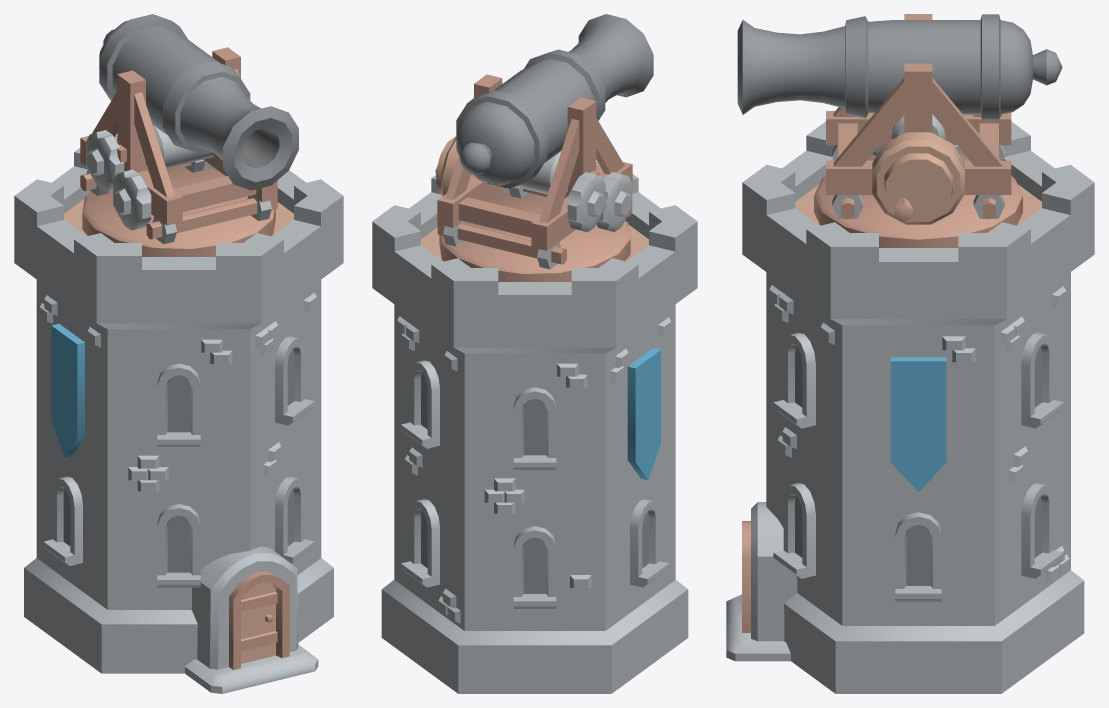
The model's file is tower_cannon_part.glb.
3 renders of one model, left to right at view 1: azimuth 30°, elevation 25°; view 2: azimuth 150°, elevation 25°; view 3: azimuth 270°, elevation 25°, orthographic. The views are drawn at different scales.
Visible parts, largest first — view 1: X_building_tower_cannon_blue, X_cannon_turret_blue, X_cannon_blue; view 2: X_building_tower_cannon_blue, X_cannon_turret_blue, X_cannon_blue; view 3: X_building_tower_cannon_blue, X_cannon_turret_blue, X_cannon_blue.
Boxes of the visible parts, left/top/right/bottom form: X_building_tower_cannon_blue: left=14, top=135, right=343, bottom=693; X_cannon_turret_blue: left=80, top=47, right=277, bottom=256; X_cannon_blue: left=99, top=14, right=298, bottom=190; X_building_tower_cannon_blue: left=372, top=162, right=697, bottom=693; X_cannon_turret_blue: left=435, top=74, right=632, bottom=281; X_cannon_blue: left=456, top=14, right=653, bottom=188; X_building_tower_cannon_blue: left=726, top=121, right=1094, bottom=693; X_cannon_turret_blue: left=814, top=14, right=1022, bottom=247; X_cannon_blue: left=737, top=14, right=1062, bottom=120.
Bounding box in the file's own units: 0.9298 × 2.04 × 1.11.
